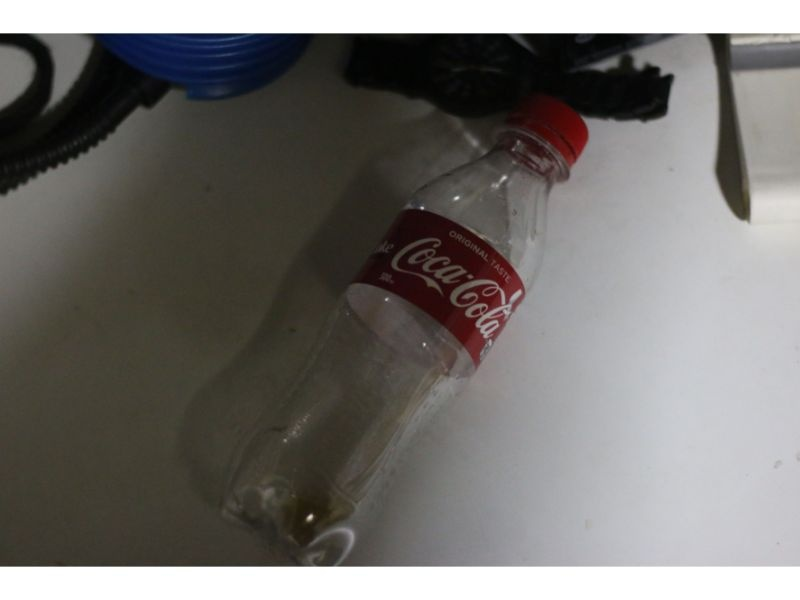PET #1: (218, 90, 598, 565)
